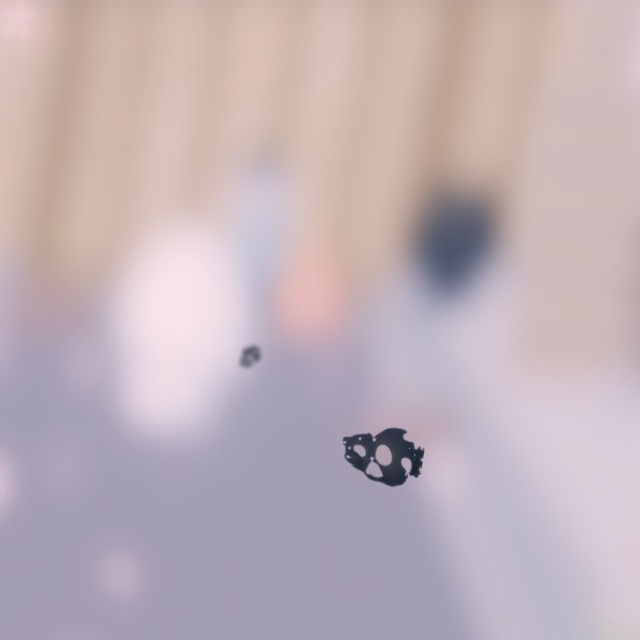urso_preto: (331, 414, 428, 493), (234, 342, 264, 373)
